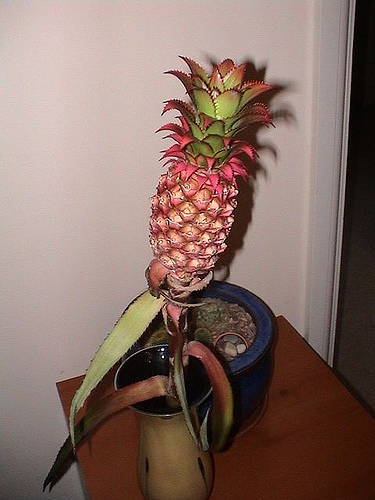pineapple: (148, 55, 278, 272)
